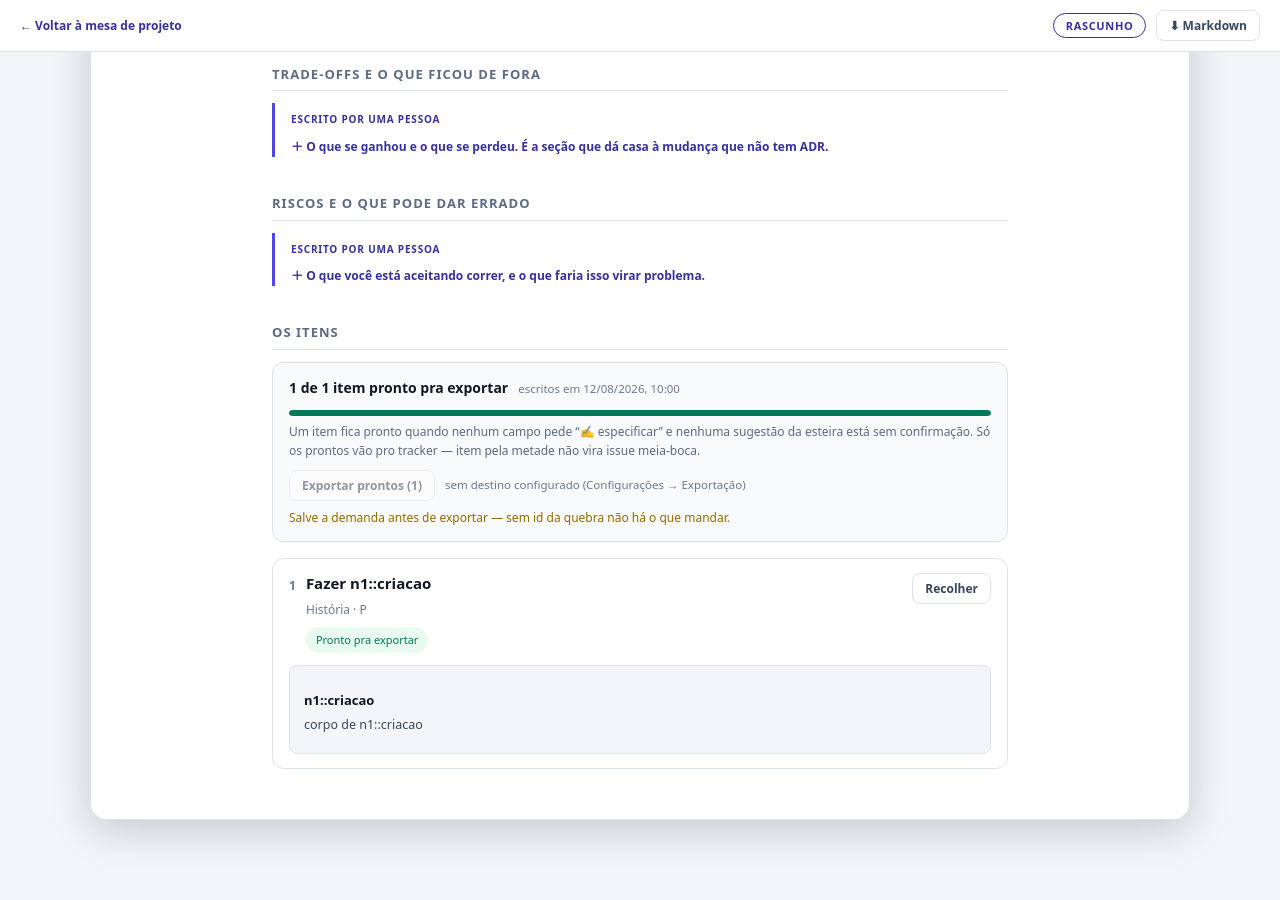
Test: a seção dos itens › onde há escrita, o card abre com o texto final — e recolher é que é sob demanda
The image size is (1280, 900).
(page scrolled)
Expected: the element with test id "item-corpo-0" shows "corpo de n1::criacao", [304, 716, 423, 732]
Click the button with test id "item-expandir-0" at point(952, 588), box [912, 573, 991, 604]
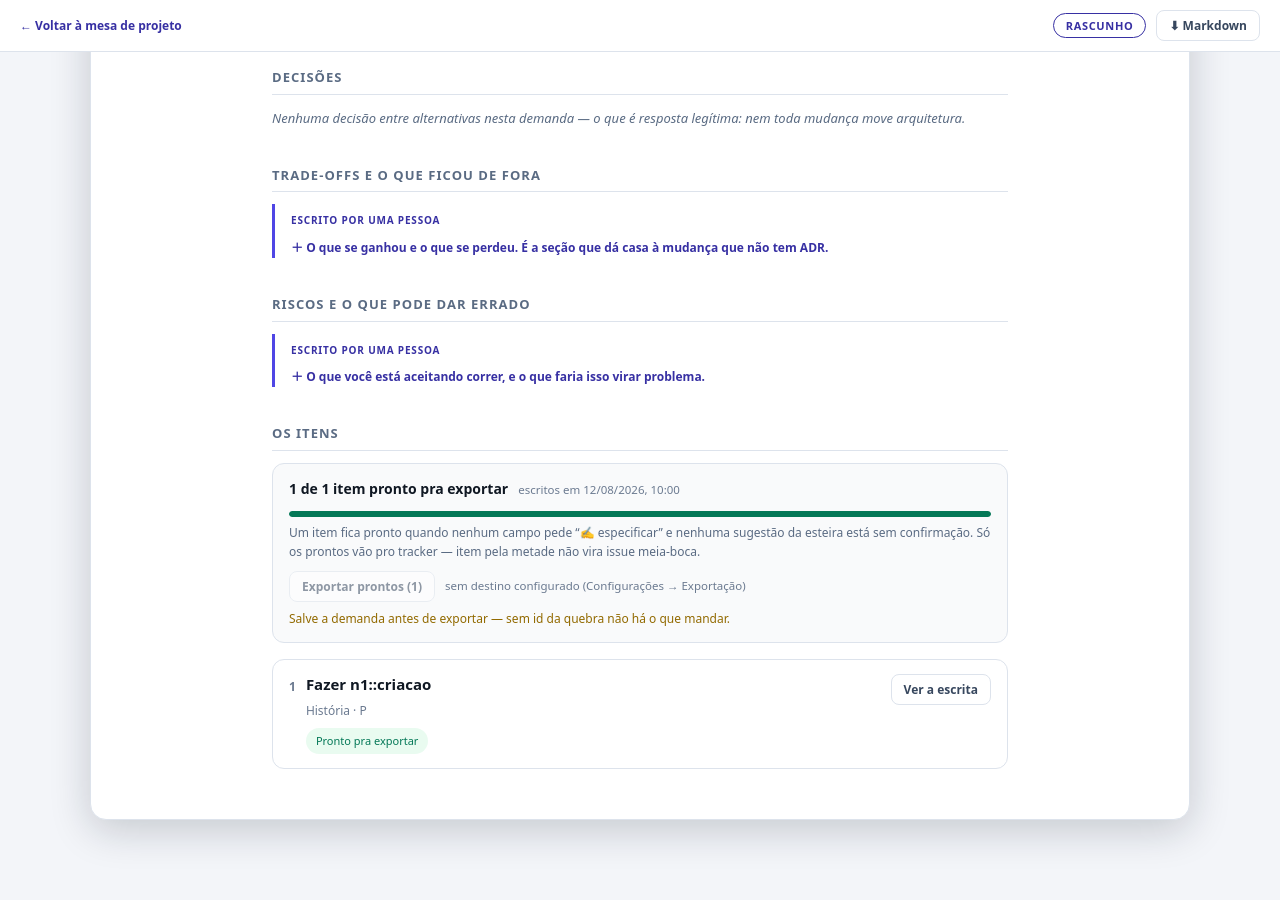
Now the element with test id "item-corpo-0" is gone
